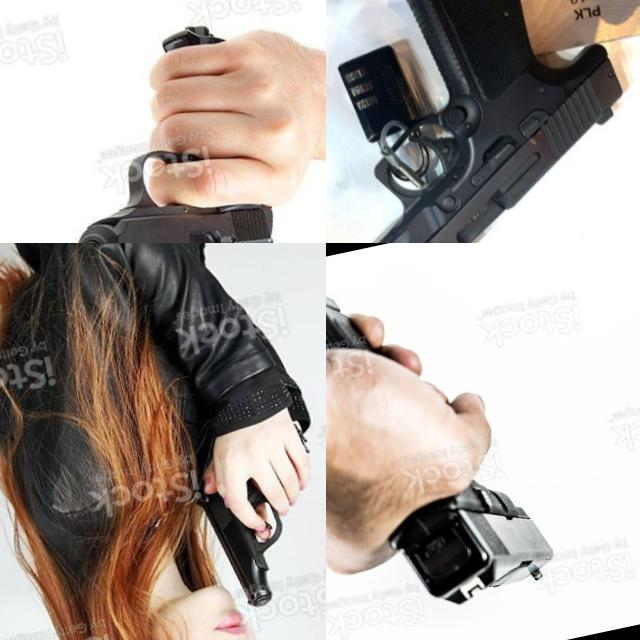handgun: (326, 245, 562, 632), (326, 0, 640, 243), (30, 12, 288, 243), (174, 410, 326, 623)
